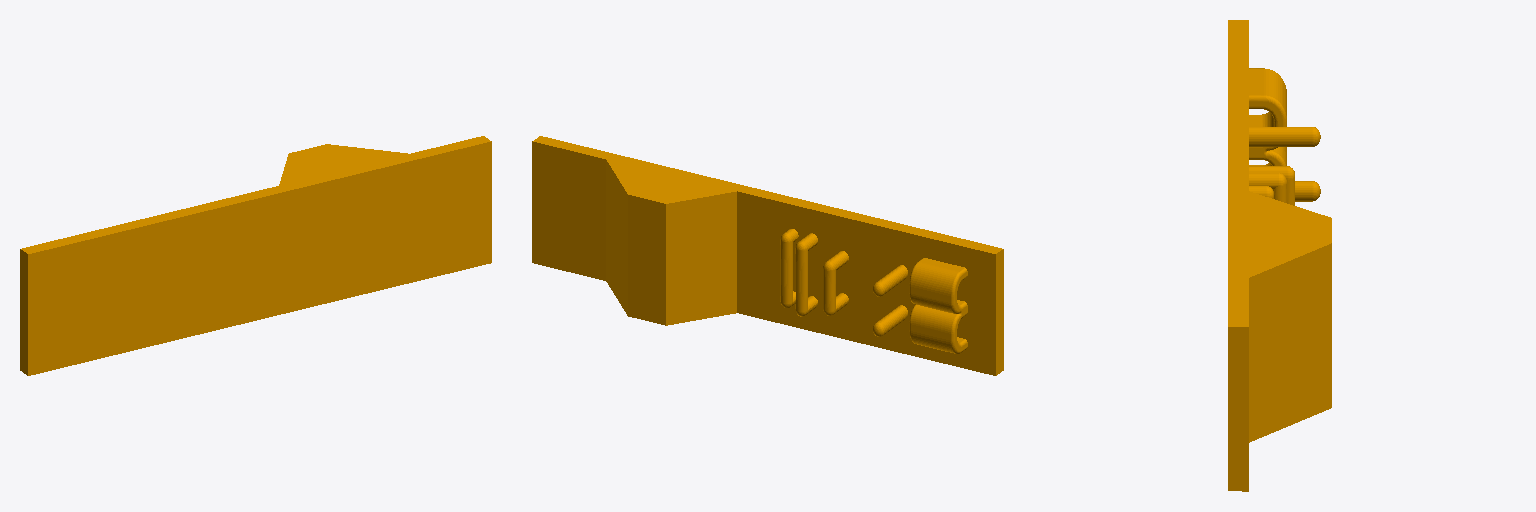
URDF robot description (block_2):
<?xml version="1.0"?>
<robot name="block_2">
<link name="table">
      <visual name='track_visual'>
        <inertial>
         <mass>0.001</mass>
         <!-- inertia based on solid sphere 2/5 mr^2 -->
         <inertia>
           <ixx>1</ixx>
           <iyy>1</iyy>
           <izz>1</izz>
           <ixy>0</ixy>
           <ixz>0</ixz>
           <iyz>0</iyz>
         </inertia>
       </inertial>
        <geometry>
          <mesh filename="RoboyParkourChallengeTrack-Simplistic-2019-09-19.stl" scale="0.001 0.001 0.0012">
          </mesh>
        </geometry>
      </visual>
      <collision name='track_collision'>
        <geometry>
          <mesh filename="RoboyParkourChallengeTrack-Simplistic-2019-09-19.stl" scale="0.001 0.001 0.0012">
          </mesh>
        </geometry>
      </collision>
</link>
</robot>

--- What the picture shows (computed from the rendered views, not written in the file) ---
Views: 3 orthographic renders of the robot side by side, from view 1: azimuth 30°, elevation 25°; view 2: azimuth 150°, elevation 25°; view 3: azimuth 270°, elevation 25°.
Model block_2 with 1 links and 0 joints (none), rooted at table, posed every joint at zero.
Visible links, largest first — view 1: table; view 2: table; view 3: table.
Link boxes in pixels (<box>): table: <box>20,136,491,375</box>; table: <box>532,136,1003,375</box>; table: <box>1228,20,1331,491</box>.
Bounding box of the posed robot: 17.19 × 2.47 × 4.32 m (x, y, z).
1 mesh visuals loaded from 1 distinct referenced files (1 binary STL).